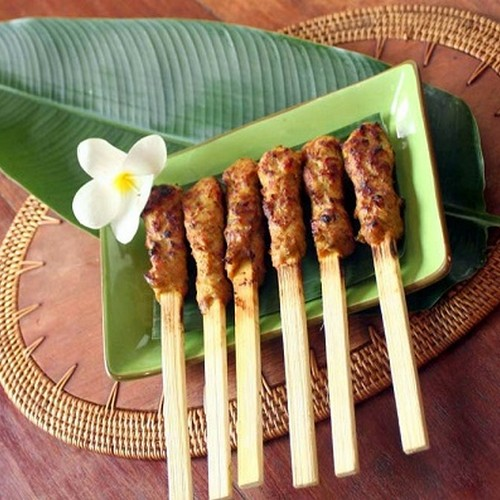sate languan: (134, 189, 189, 301)
